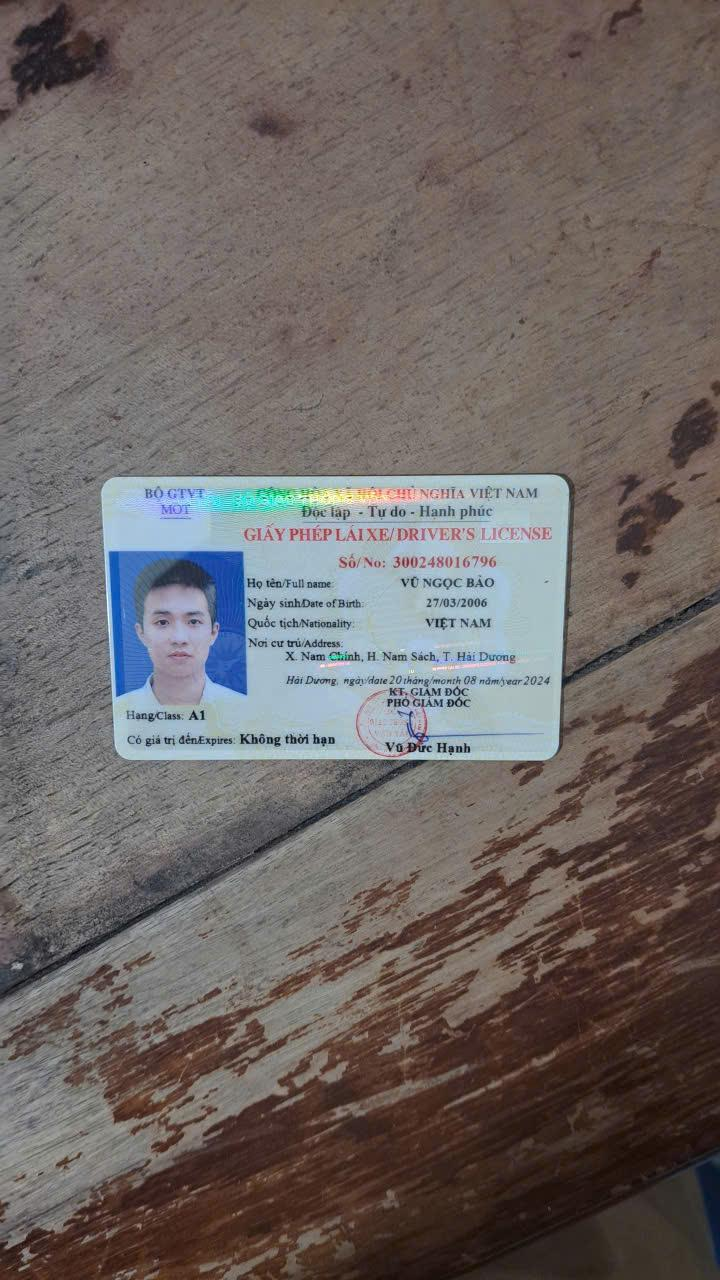gplx: (98, 467, 575, 765)
